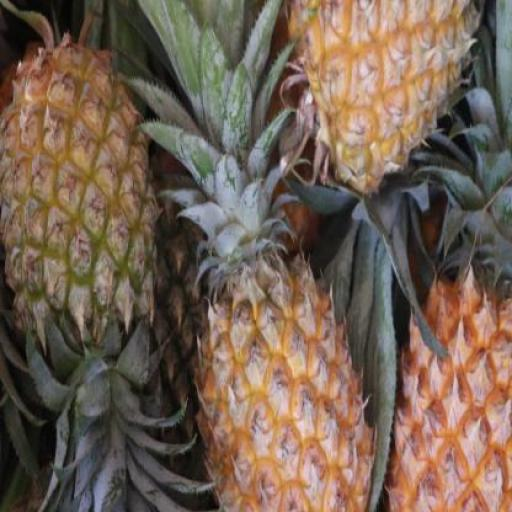------------------------------: (0, 37, 156, 331)
Pineapple - v8 v1: (192, 252, 373, 512), (289, 1, 481, 196), (384, 274, 512, 511)
